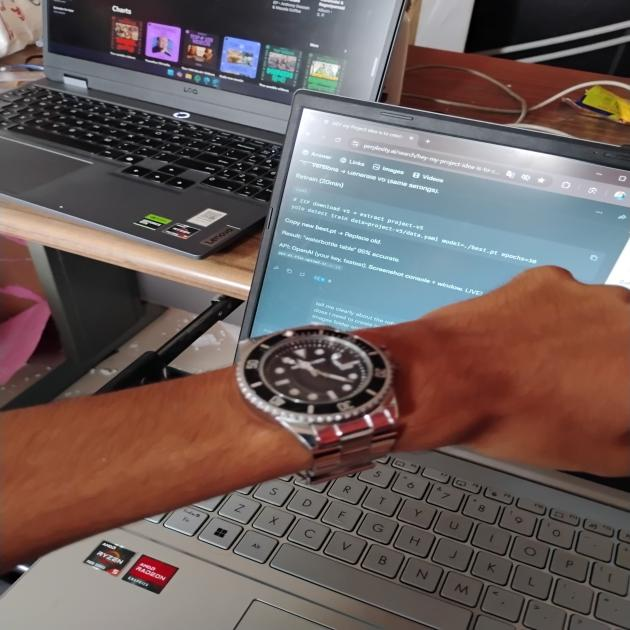wristwatch: (228, 312, 442, 489)
